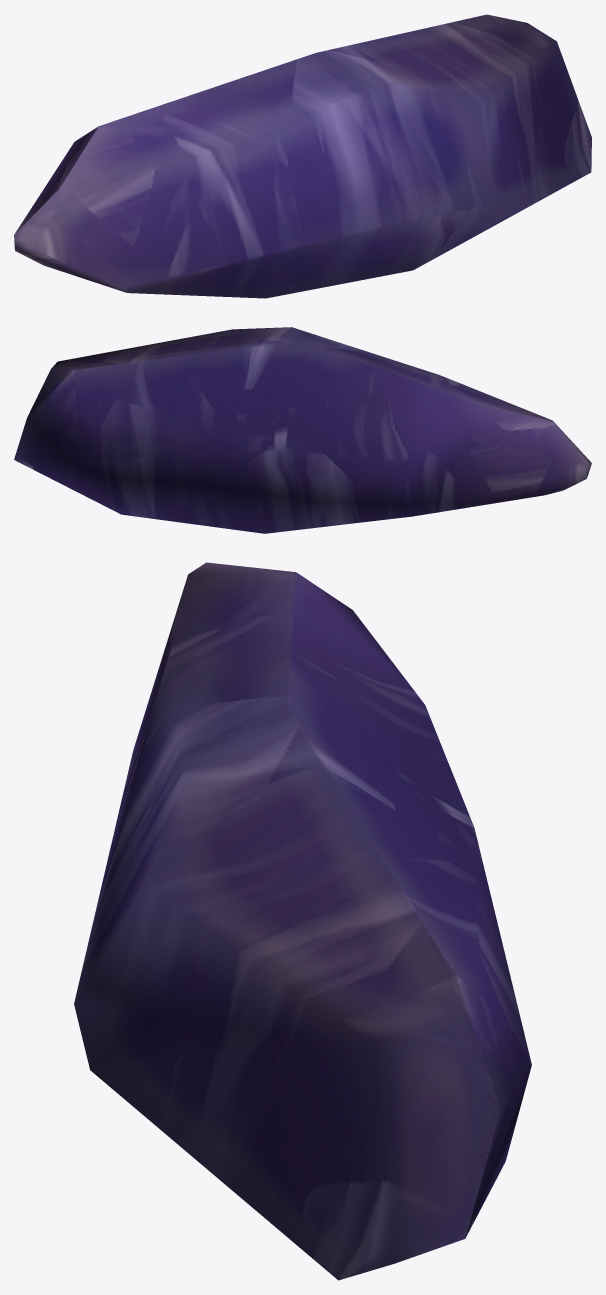
File: SM_Potion_Props_Loot_Crystal_01_A.fbx
3 renders of one model, top to bottom at view 1: azimuth 30°, elevation 25°; view 2: azimuth 150°, elevation 25°; view 3: azimuth 270°, elevation 25°, orthographic. The views are drawn at different scales.
Parts seen in each view (by area): view 1: SM_Potion_Props_Loot_Crystal_01_A_LOD0; view 2: SM_Potion_Props_Loot_Crystal_01_A_LOD0; view 3: SM_Potion_Props_Loot_Crystal_01_A_LOD0.
Part boxes in pixels (x1,y1,x2,y2): SM_Potion_Props_Loot_Crystal_01_A_LOD0: (14,14,591,298); SM_Potion_Props_Loot_Crystal_01_A_LOD0: (14,327,591,533); SM_Potion_Props_Loot_Crystal_01_A_LOD0: (74,562,531,1280).
Size of what is drawn, in the model's own units: 17.32 by 5.3 by 6.54.
